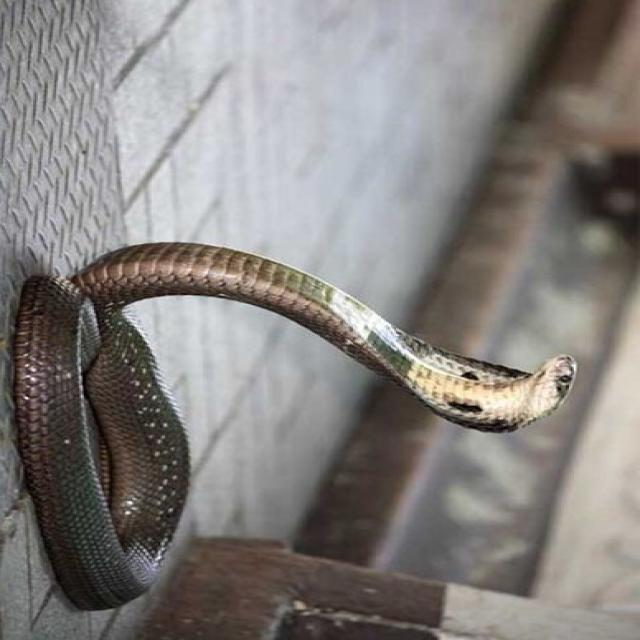Venomous: (382, 296, 590, 464)
